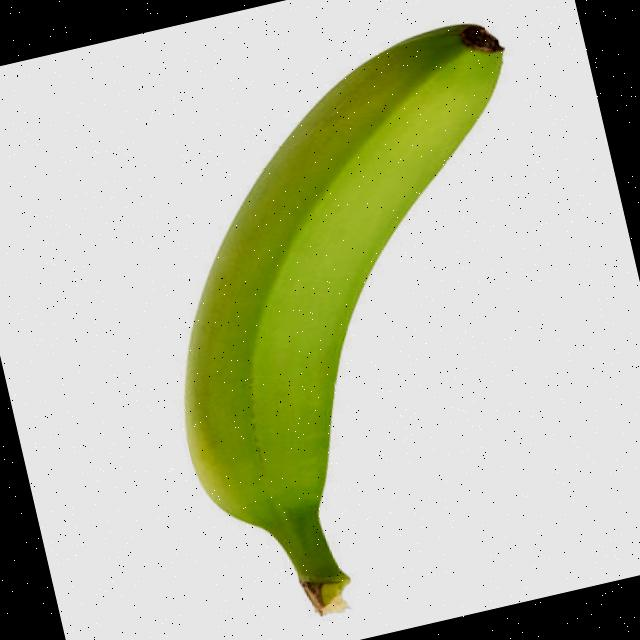banana: (101, 11, 626, 640)
